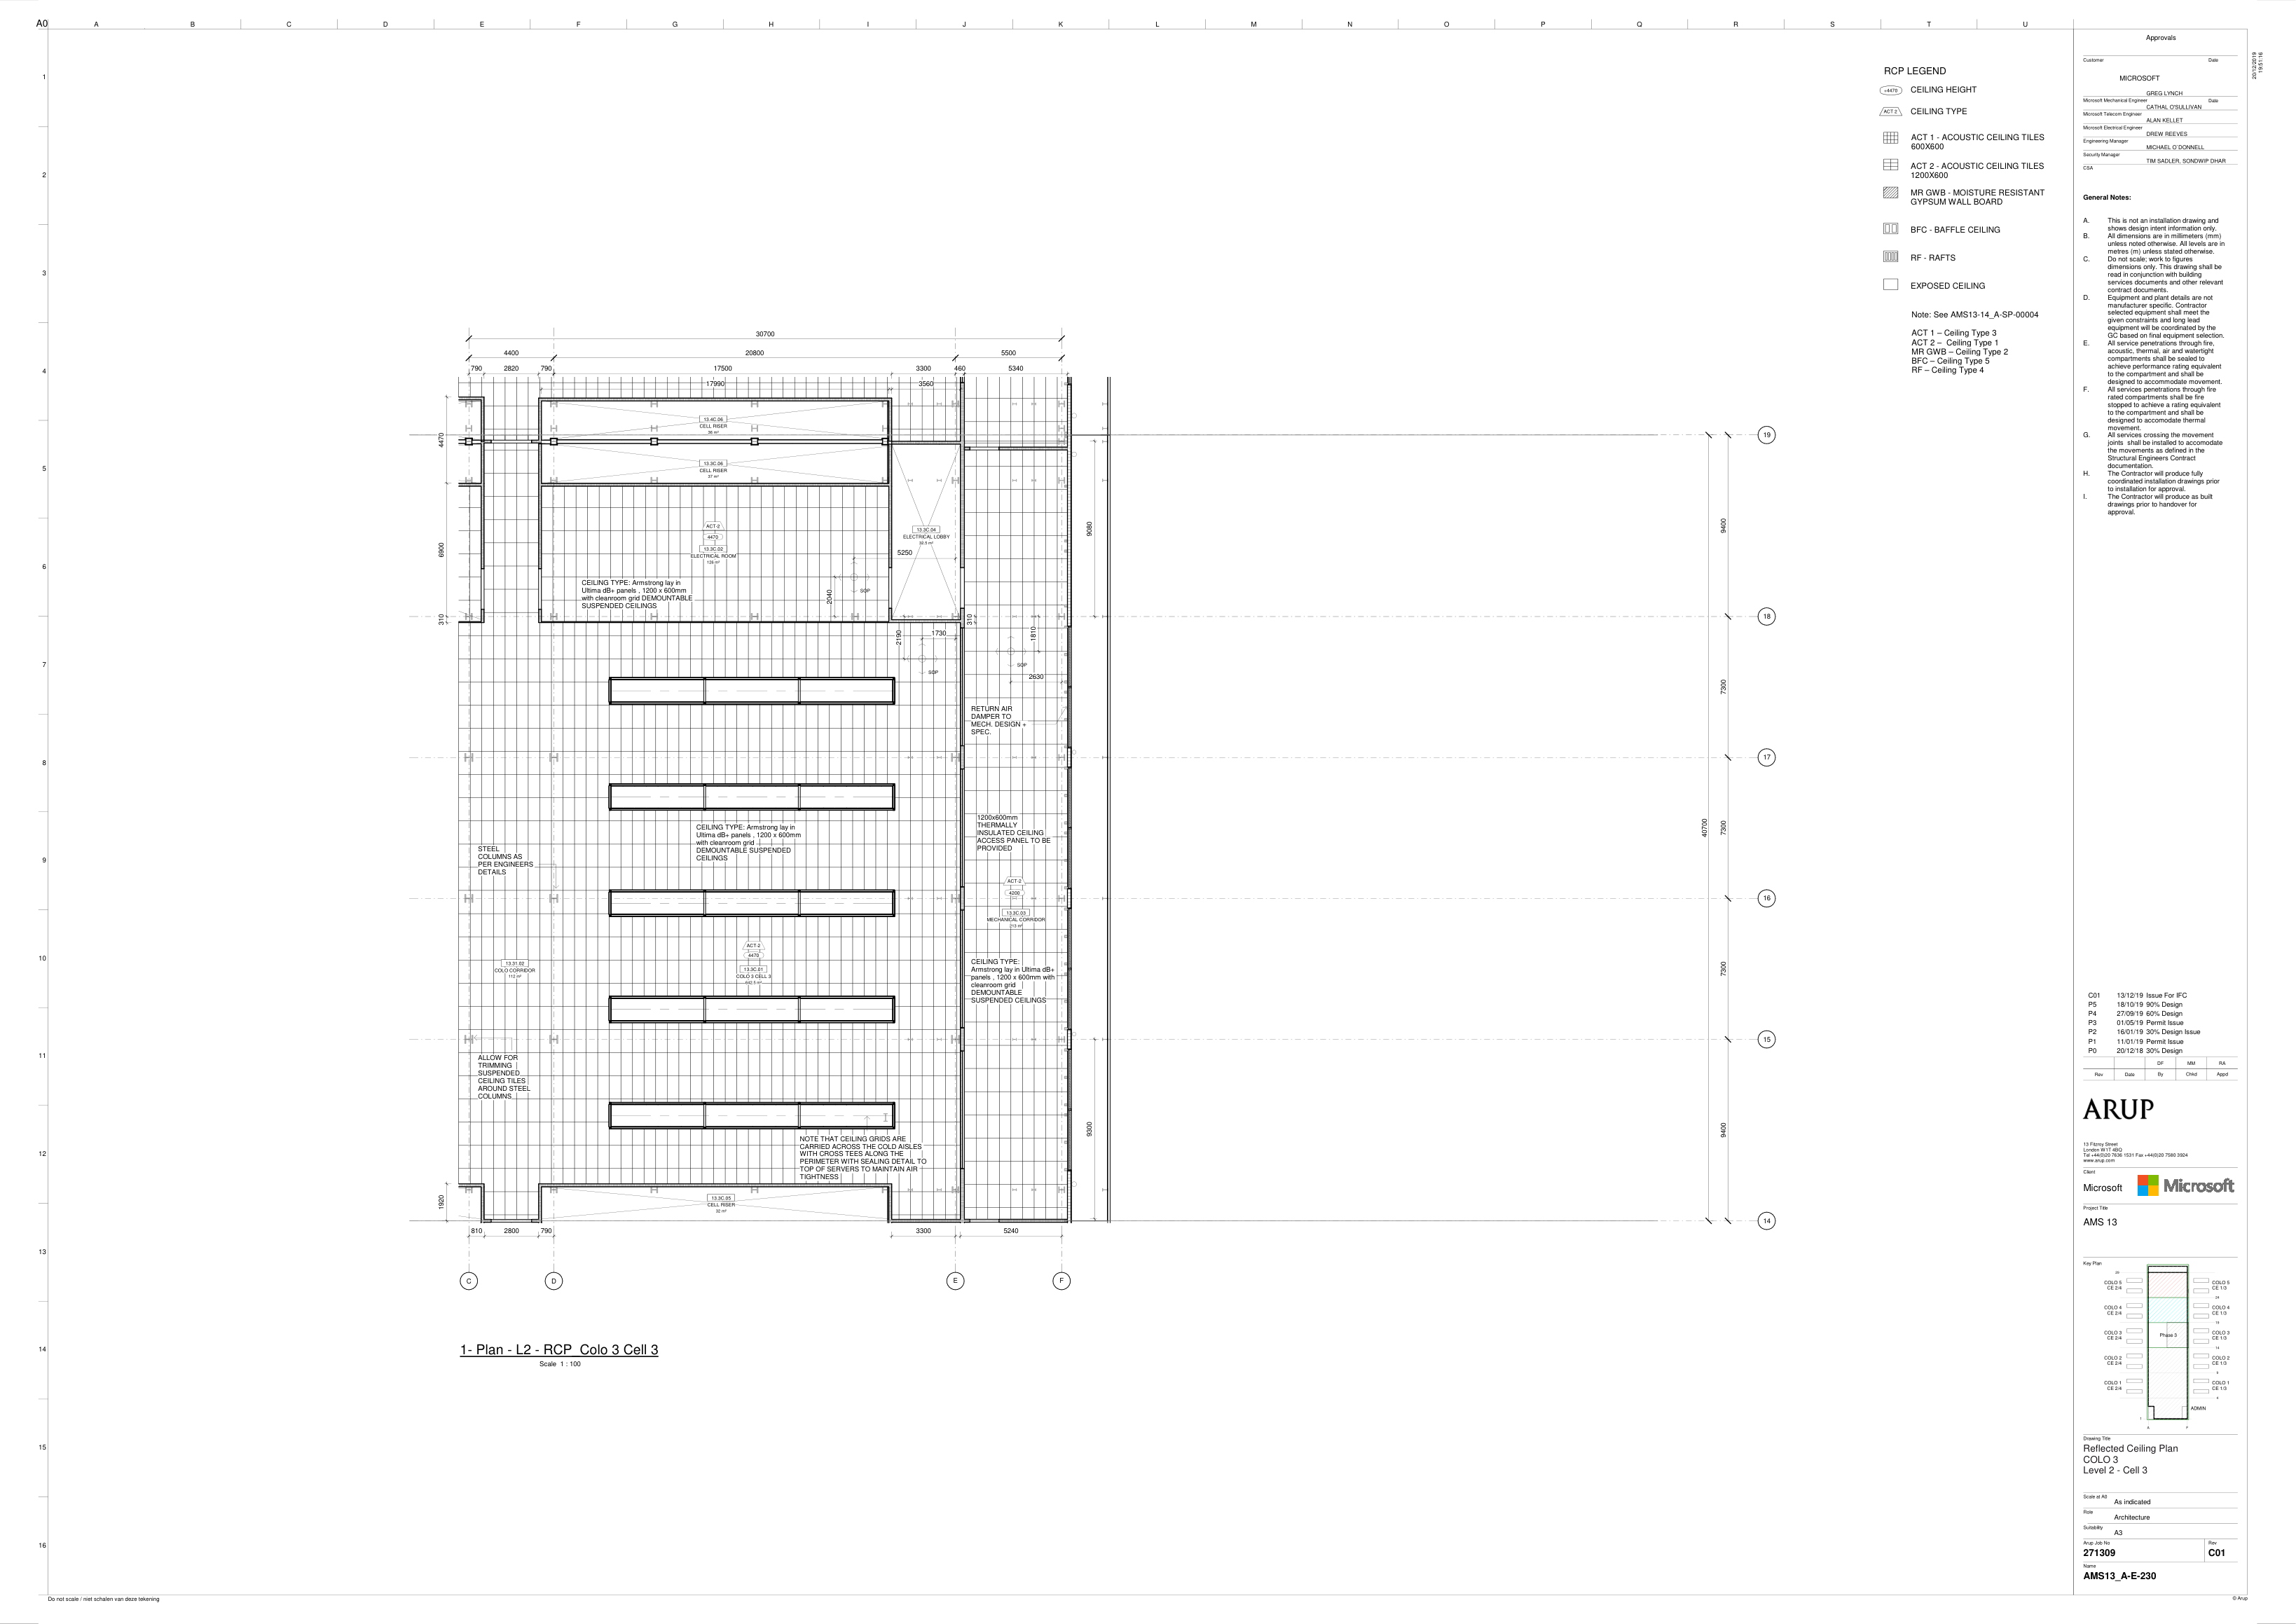Legend: (1877, 62, 2045, 376)
